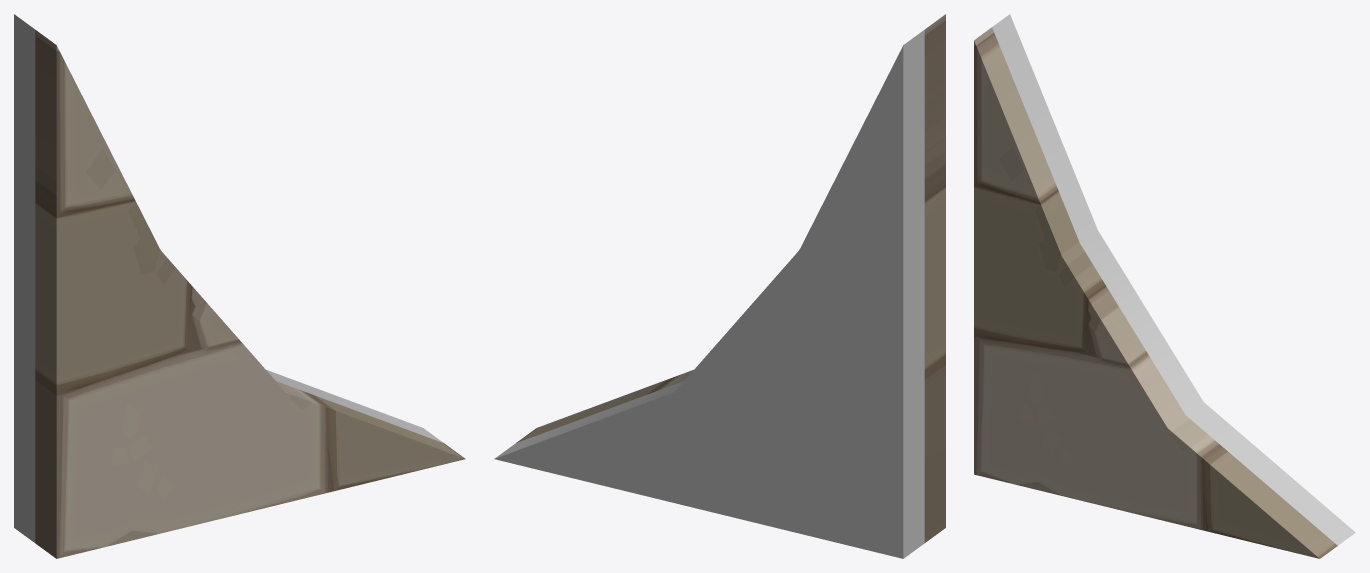
File: SM_Bld_Wall_End_Concave_Small_01.fbx
3 views of the same model, side by side, from view 1: azimuth 30°, elevation 25°; view 2: azimuth 150°, elevation 25°; view 3: azimuth 330°, elevation 25° (orthographic). The views are drawn at different scales.
Parts seen in each view (by area): view 1: SM_Bld_Wall_End_Concave_Small_01; view 2: SM_Bld_Wall_End_Concave_Small_01; view 3: SM_Bld_Wall_End_Concave_Small_01.
Boxes of the visible parts, x1=… form: SM_Bld_Wall_End_Concave_Small_01: x1=14, y1=14, x2=465, y2=558; SM_Bld_Wall_End_Concave_Small_01: x1=494, y1=14, x2=945, y2=558; SM_Bld_Wall_End_Concave_Small_01: x1=974, y1=14, x2=1355, y2=558.
Bounding box in the file's own units: 125 × 150 × 22.5.
